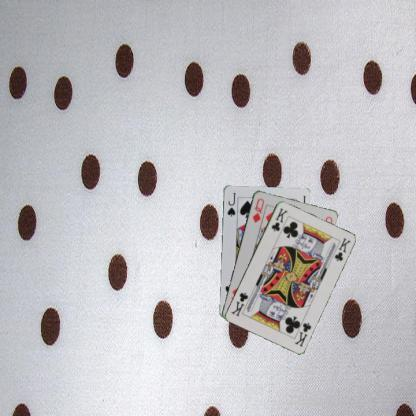Js: (224, 190, 237, 217)
Kc: (292, 319, 312, 348), (269, 205, 289, 233)
Qd: (250, 196, 265, 223)
